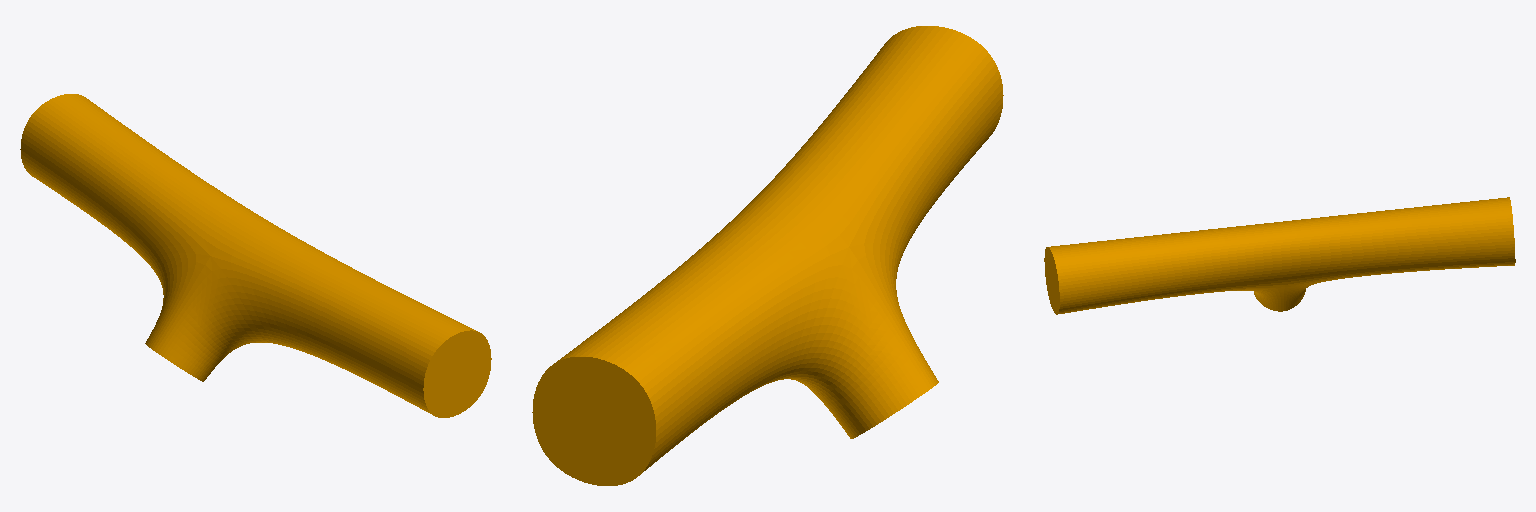
The robot description file, URDF, robot "object":
<robot name="object">
  <link name="object">
    <visual>
      <origin xyz="0 0 0"/>
      <geometry>
        <mesh filename="visual.obj" scale="1 1 1"/>
      </geometry>
    </visual>
    <collision>
      <origin xyz="0 0 0"/>
      <geometry>
        <mesh filename="visual.obj" scale="1 1 1"/>
      </geometry>
    </collision>
    <inertial>
      <mass value="0.05"/>
      <inertia ixx="0.00012571993078663193" iyy="9.899349483136866e-06" izz="0.00012845347696209352" ixy="1.8253114263214223e-05" ixz="-5.492667044927402e-07" iyz="-5.766988863567964e-06"/>
    </inertial>
  </link>
</robot>

--- Render facts (derived) ---
Views: 3 orthographic renders of the robot side by side, from view 1: azimuth 30°, elevation 25°; view 2: azimuth 150°, elevation 25°; view 3: azimuth 270°, elevation 25°.
Model object with 1 links and 0 joints (none), rooted at object, posed every joint at zero.
Visible links, largest first — view 1: object; view 2: object; view 3: object.
Boxes of the visible links, x1=… form: object: x1=20, y1=94, x2=491, y2=417; object: x1=532, y1=26, x2=1003, y2=485; object: x1=1044, y1=197, x2=1515, y2=314.
Bounding box of the posed robot: 0.0629 × 0.1847 × 0.0509 m (x, y, z).
Meshes: 1 distinct files referenced, 1 mesh visuals loaded (1 OBJ).
